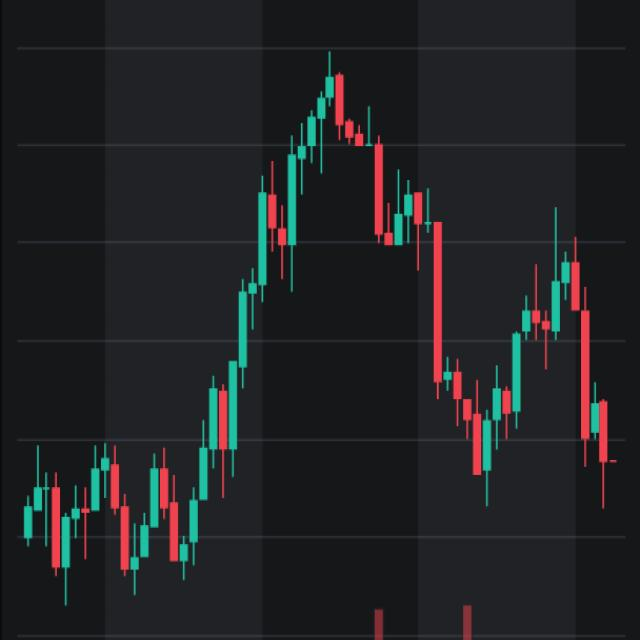rectangle: (21, 440, 197, 588)
